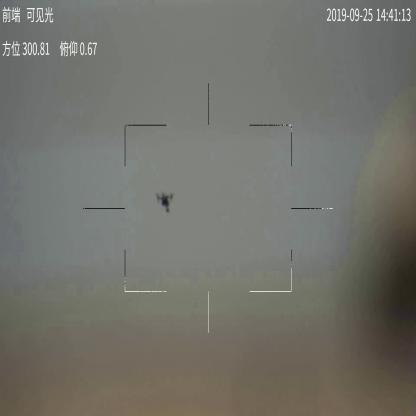uav: (155, 189, 176, 212)
